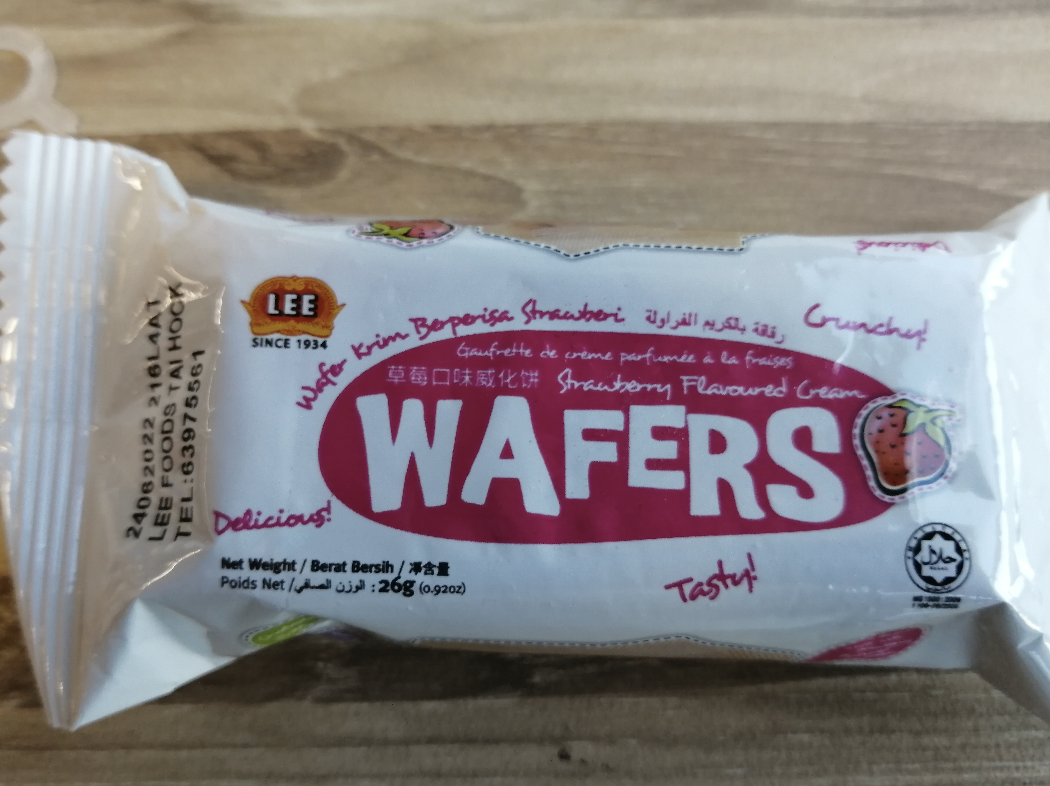Halal: (917, 535, 964, 581)
